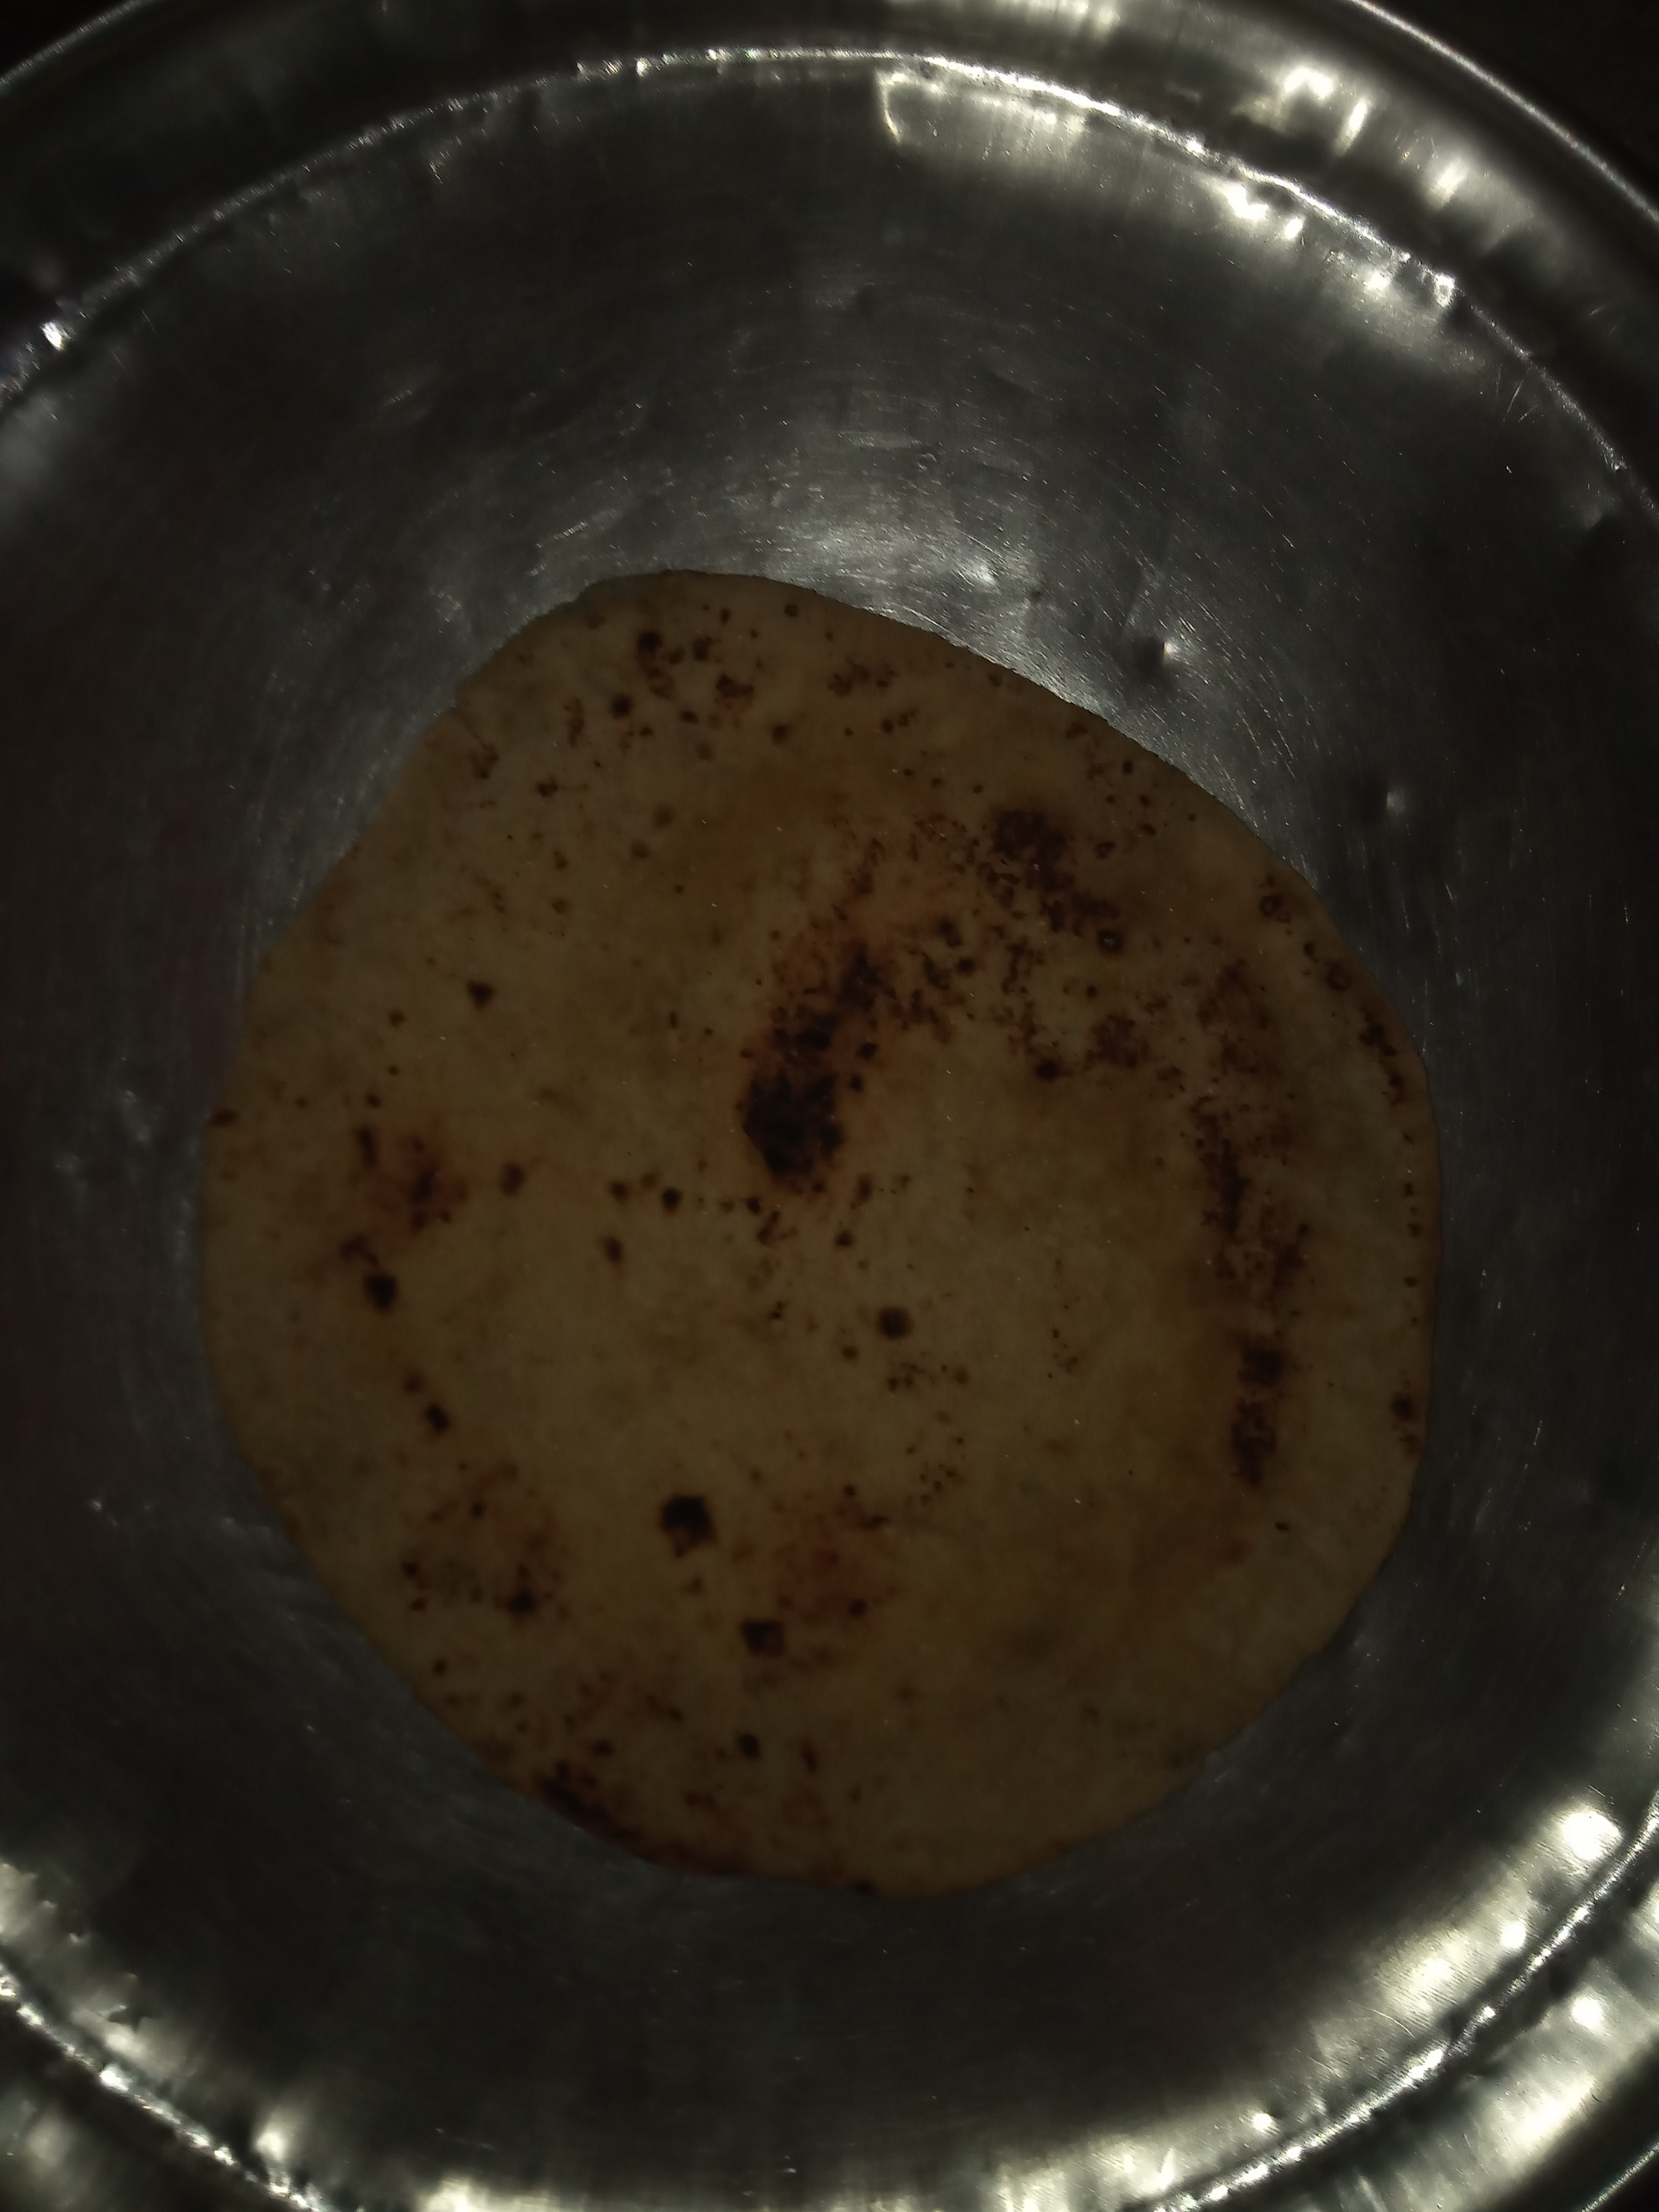food: (181, 554, 1460, 1919)
